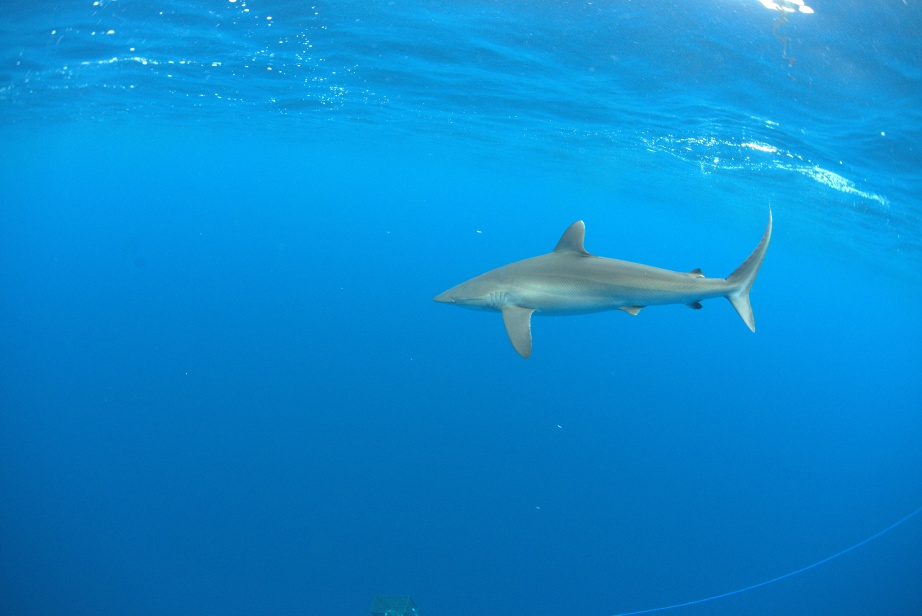Sedoso: (424, 201, 800, 371)
